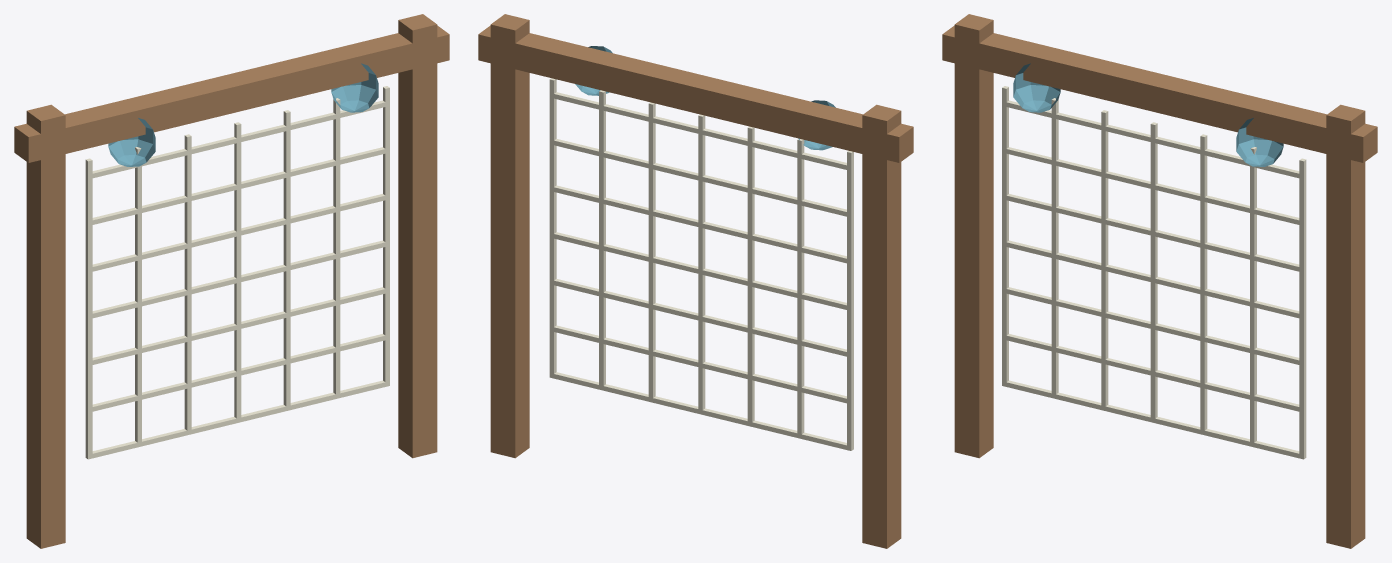
File: tidal-fishing-net-drying-rack__269.glb
The picture shows the model from 3 angles, left to right: view 1: azimuth 30°, elevation 25°; view 2: azimuth 150°, elevation 25°; view 3: azimuth 330°, elevation 25°; orthographic projection.
Parts seen in each view (by area): view 1: tidal-observatory-net-rack; view 2: tidal-observatory-net-rack; view 3: tidal-observatory-net-rack.
Part boxes in pixels (x1=…): tidal-observatory-net-rack: x1=14, y1=14, x2=449, y2=548; tidal-observatory-net-rack: x1=478, y1=14, x2=913, y2=548; tidal-observatory-net-rack: x1=942, y1=14, x2=1377, y2=548.
Bounding box in the file's own units: 1.7 × 1.65 × 0.2156.
